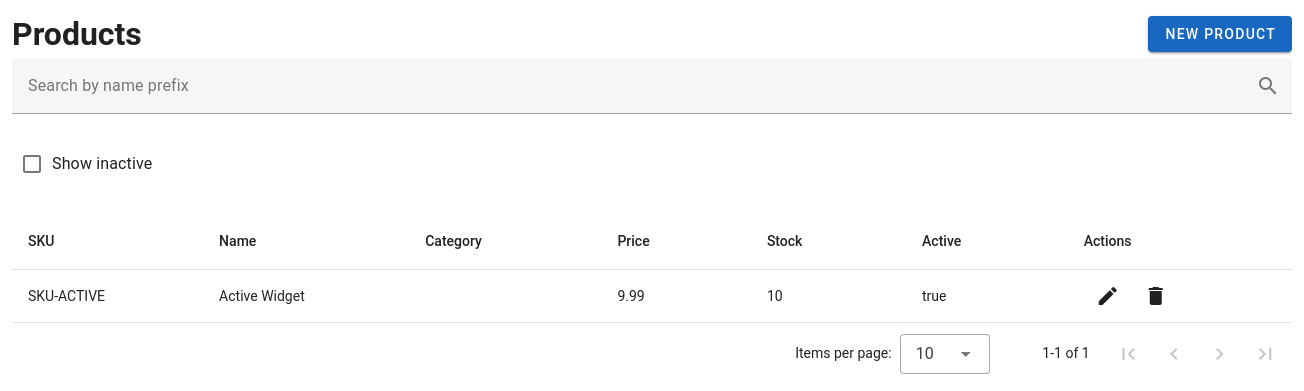
it: ProductListView › switches to inactive products when the toggle is checked
This screenshot has width=1304, height=391.
Click the checkbox labelled "Show inactive": click(102, 164) [52, 154, 152, 173]
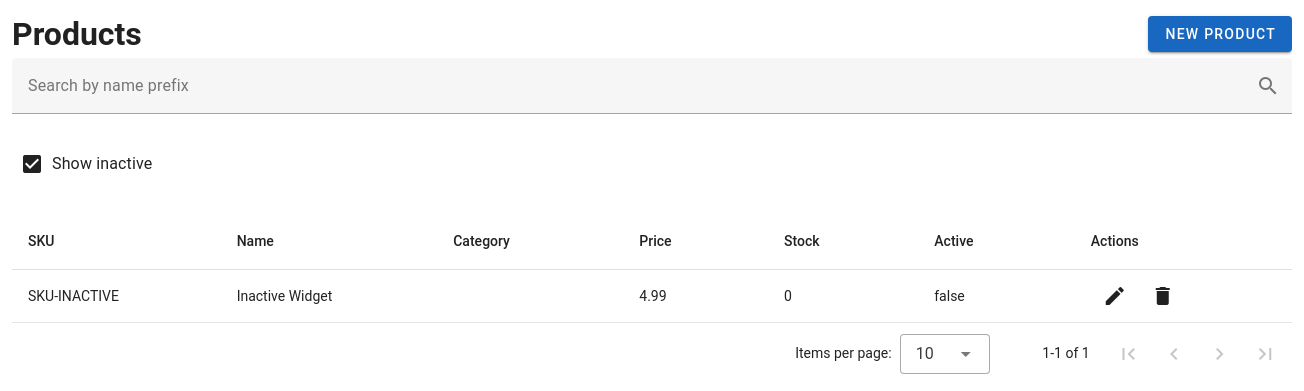
Result: the text "Inactive Widget" is shown at [221, 270, 437, 322]
